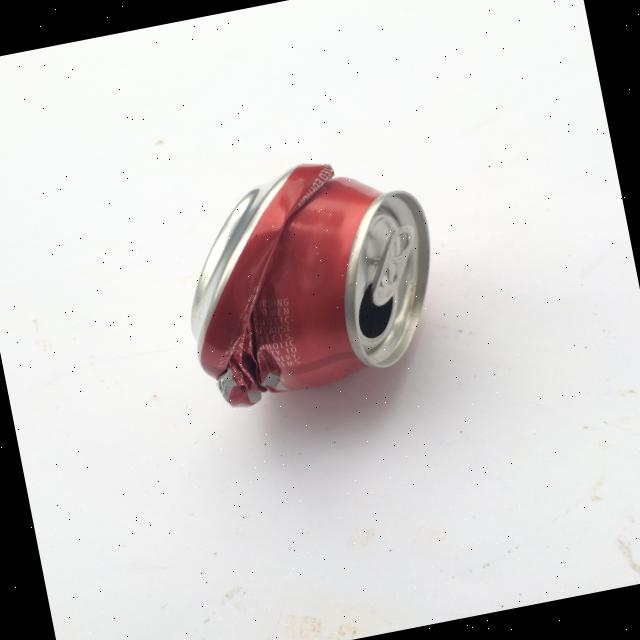metal: (162, 141, 456, 415)
